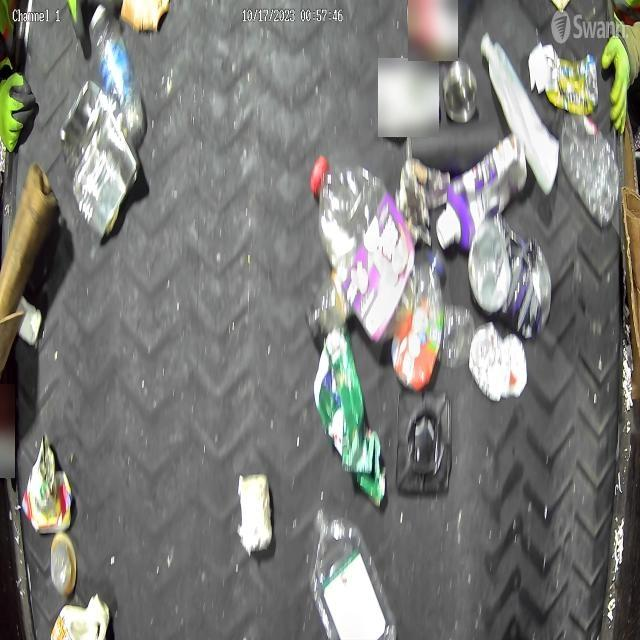milk_jug: (481, 33, 562, 195)
plastic_bottle: (311, 160, 413, 343), (392, 250, 446, 388), (90, 7, 144, 141)
